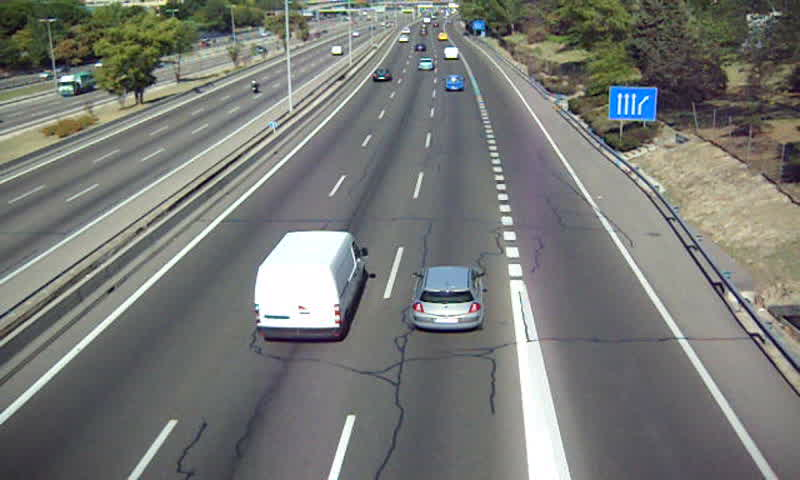car: (412, 267, 483, 329), (443, 73, 467, 94), (370, 69, 393, 84), (417, 58, 435, 73)
van: (255, 230, 364, 341)
